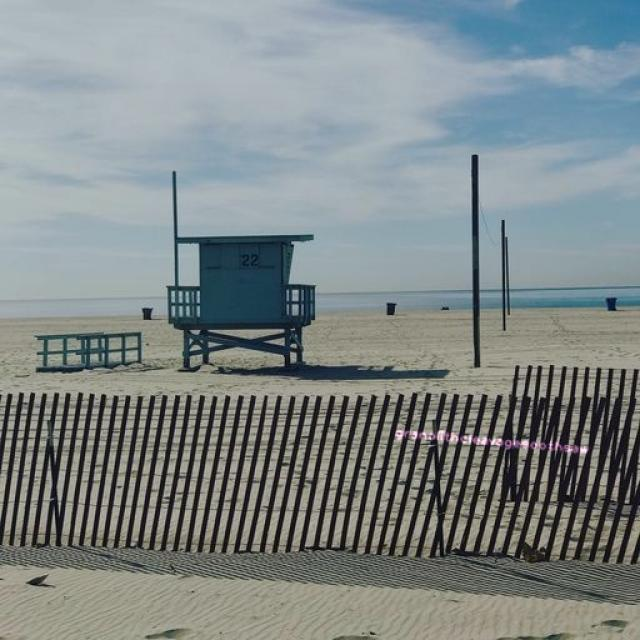watermark: (390, 426, 598, 455)
